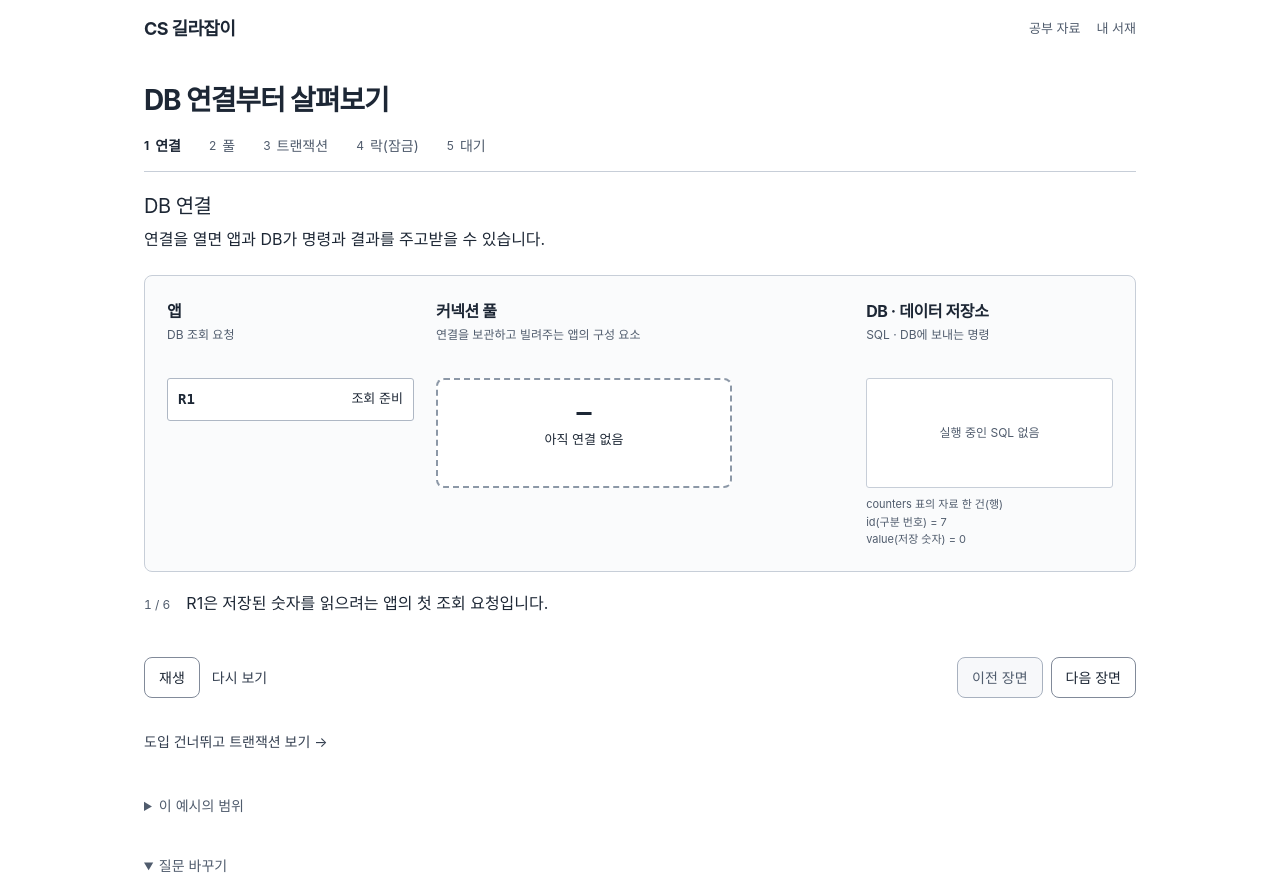
Test: public DB learning integration › starts at the introduction with an existing session, then explicitly returns to the same saved location without writes or API requests
The image size is (1280, 891).
Expected: the heading "DB 연결부터 살펴보기" is shown, [144,83,389,117]
Expected: the heading "DB 연결" is shown, [144,194,212,218]
Click the button "다음 장면" at (1093, 678), box [1050,657,1136,698]
(page scrolled)
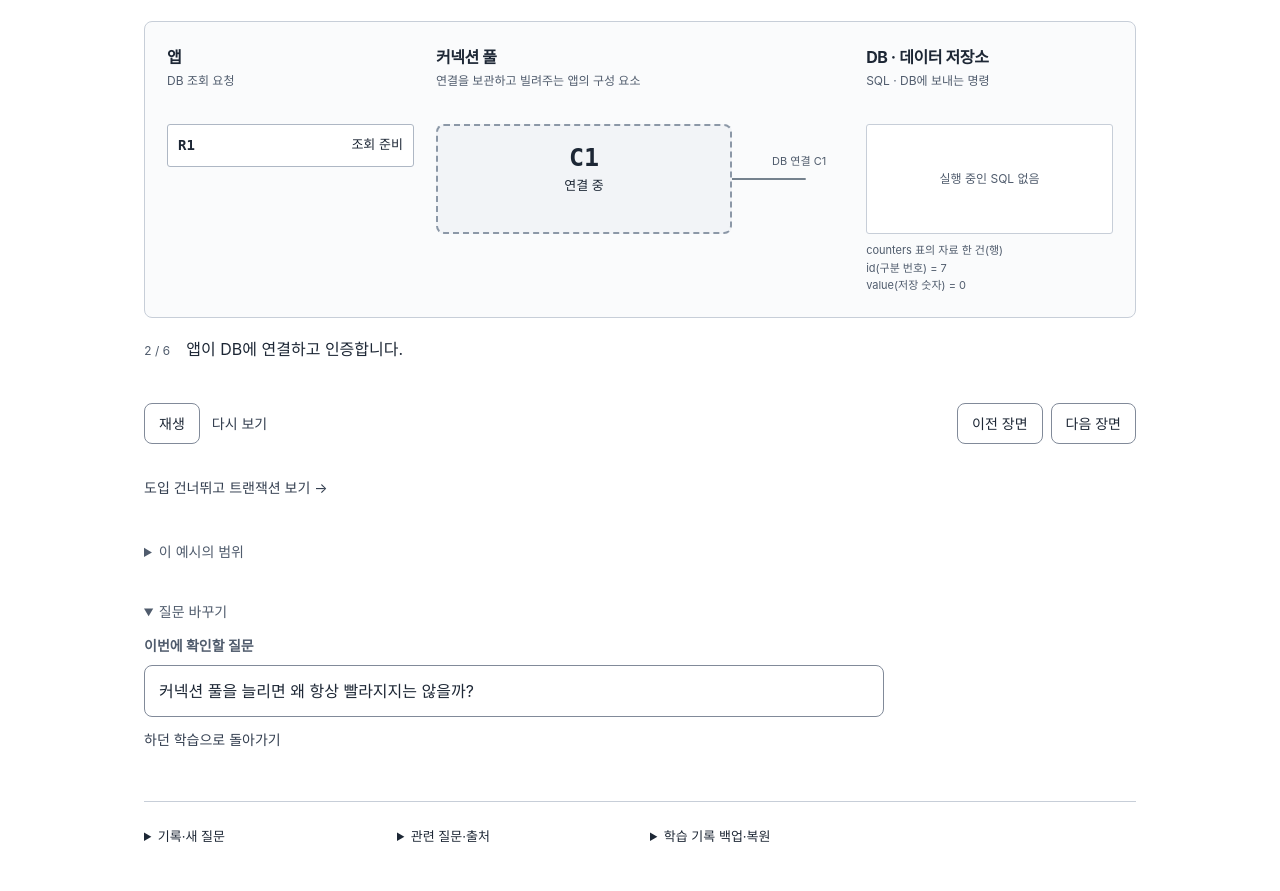
Click the button "하던 학습으로 돌아가기" at (212, 739), box [144,717,281,761]
(page scrolled)
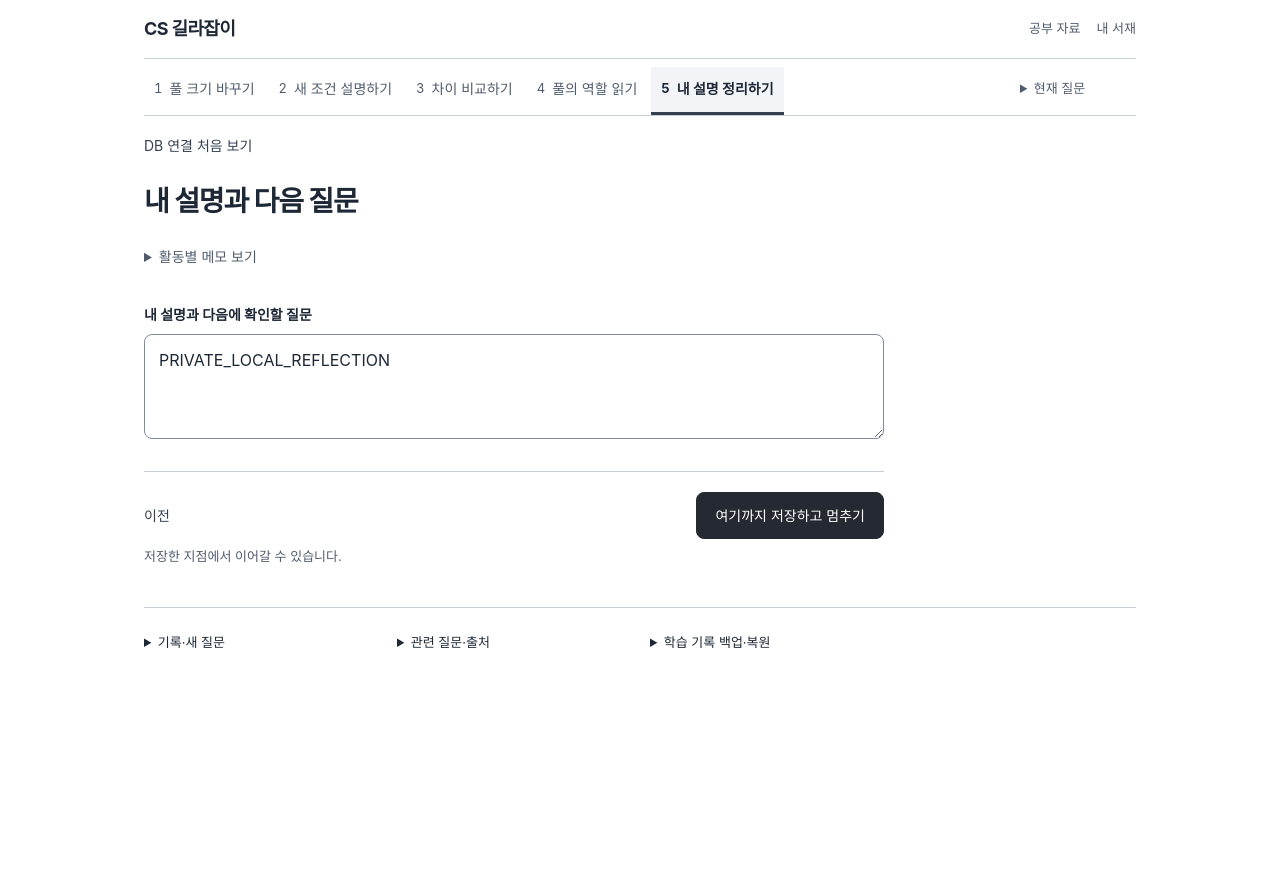
Result: the heading "내 설명과 다음 질문" is shown at [144,184,358,218]
Result: the text box labelled "내 설명과 다음에 확인할 질문" holds "PRIVATE_LOCAL_REFLECTION" at [144,334,884,439]
